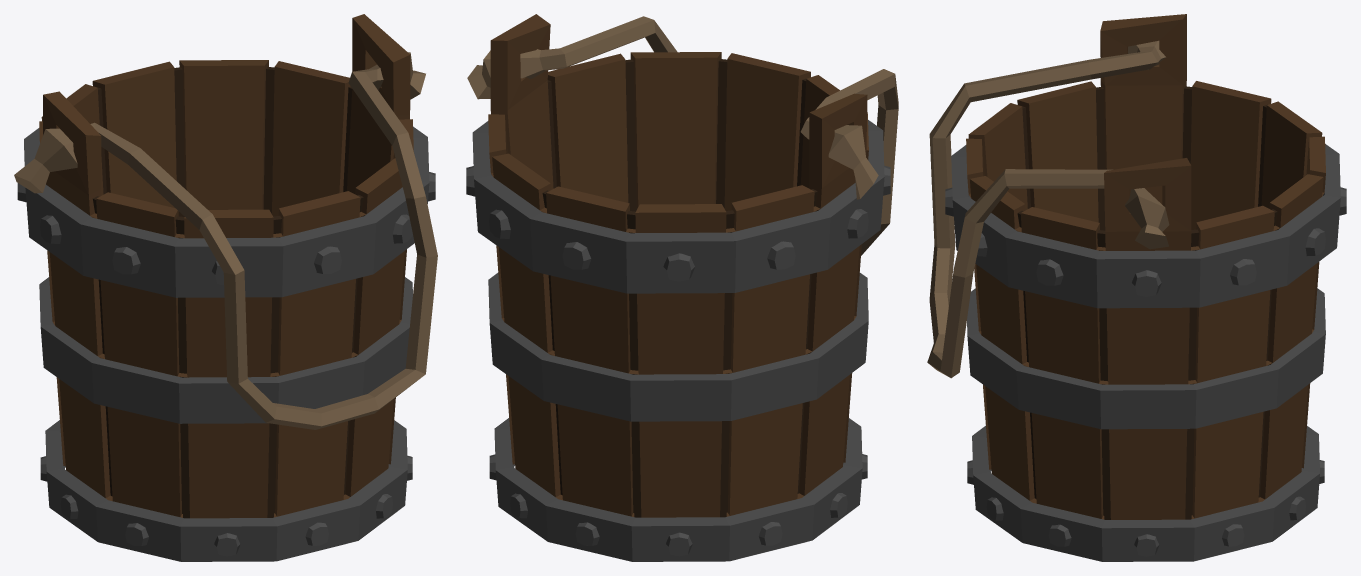
The model's file is Ведро.fbx.
3 views of the same model, side by side, from view 1: azimuth 30°, elevation 25°; view 2: azimuth 150°, elevation 25°; view 3: azimuth 270°, elevation 25° (orthographic). The views are drawn at different scales.
Parts seen in each view (by area): view 1: Ведро; view 2: Ведро; view 3: Ведро.
Part boxes in pixels (<box>): Ведро: <box>14,14,437,561</box>; Ведро: <box>466,14,898,561</box>; Ведро: <box>927,14,1346,561</box>.
Size of the model in its own units: 181 by 180 by 171.
